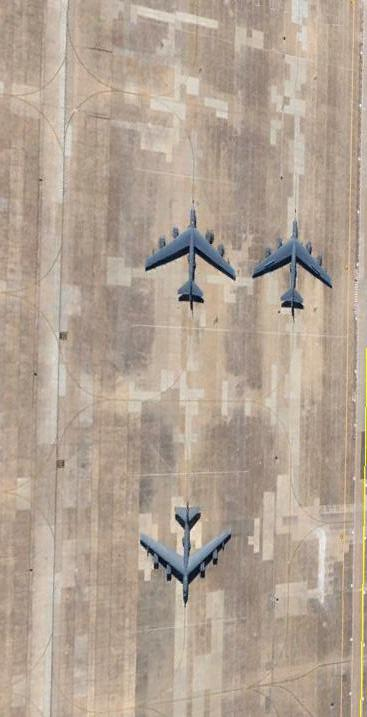B-52: (142, 206, 239, 311), (137, 502, 235, 599), (253, 222, 335, 311)
